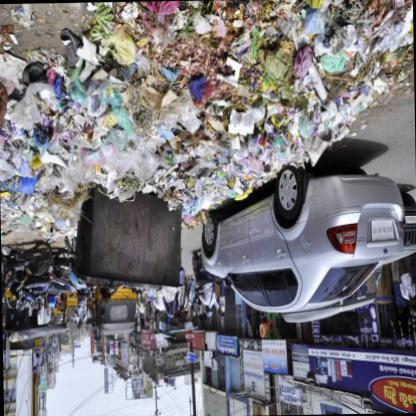Garbage: (10, 0, 233, 200), (4, 9, 72, 233), (234, 0, 411, 83), (247, 58, 336, 174), (68, 63, 136, 172), (189, 94, 238, 214), (250, 31, 301, 84), (311, 6, 360, 58), (27, 54, 62, 126), (82, 2, 134, 47), (146, 72, 180, 136), (218, 106, 258, 154), (228, 102, 270, 140), (79, 82, 113, 116), (107, 93, 132, 132), (41, 80, 59, 99), (154, 174, 167, 196)
